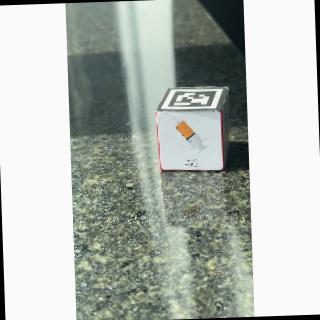Syringe: (158, 109, 223, 172)
